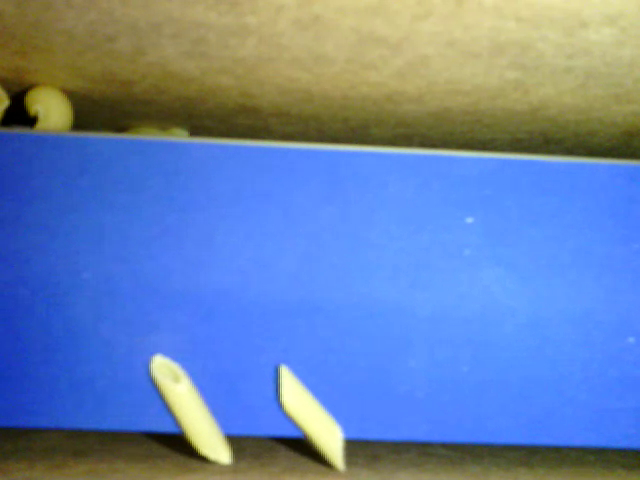penne: (148, 352, 234, 466), (275, 361, 348, 475)
shell: (26, 85, 75, 134)
